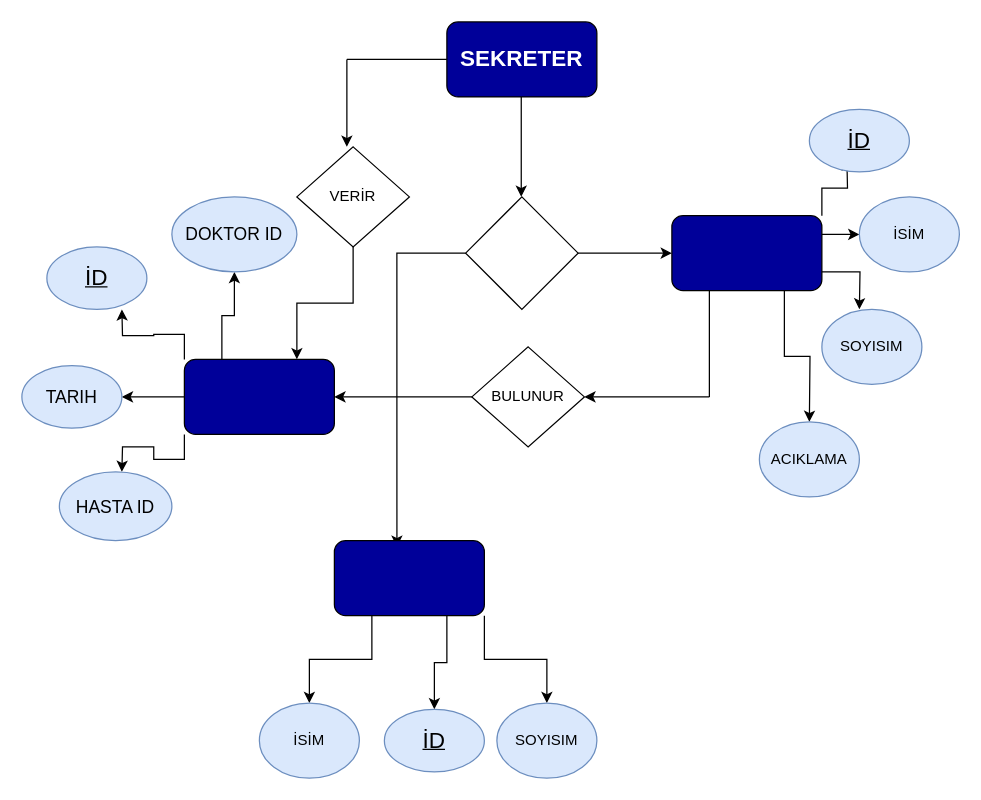
The diagram is 981 pixels wide and 800 high, and some of its shapes have lost their labels. Here are the shapes that lost their labels. From the top down, the centre of each, then its label:
At [521,252]: "KAYDEDER".
At [746,252]: "HASTA".
At [258,396]: "RANDEVU".
At [408,577]: "DOKTOR".
